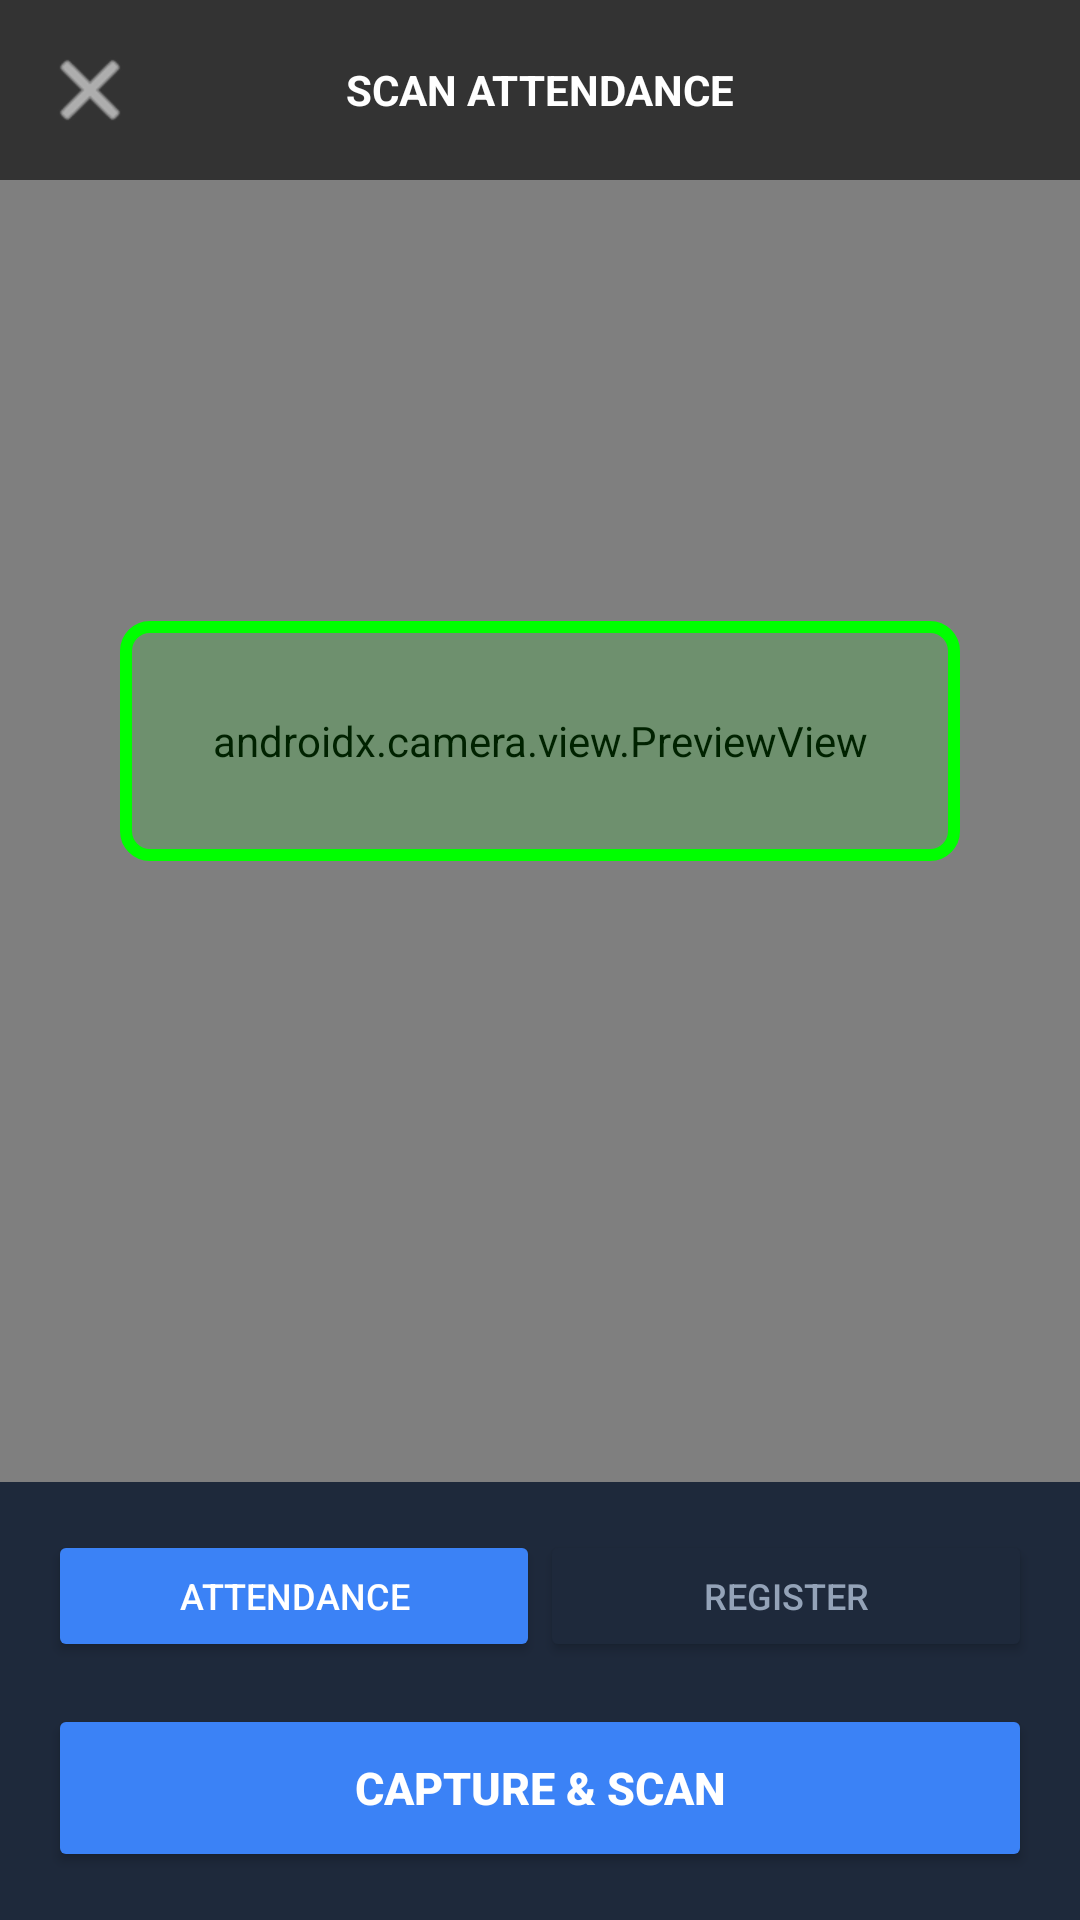

Locate icon controls on the screen. Image size 1080*1920, boxes as (x1, y1, x2, y2).
Back: (60, 60, 120, 120)
